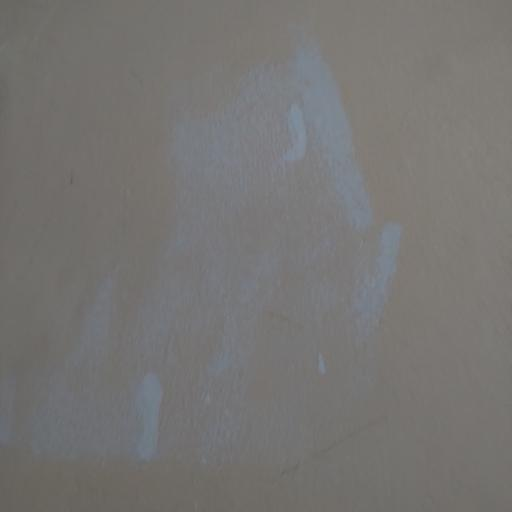stain: (92, 24, 405, 464)
